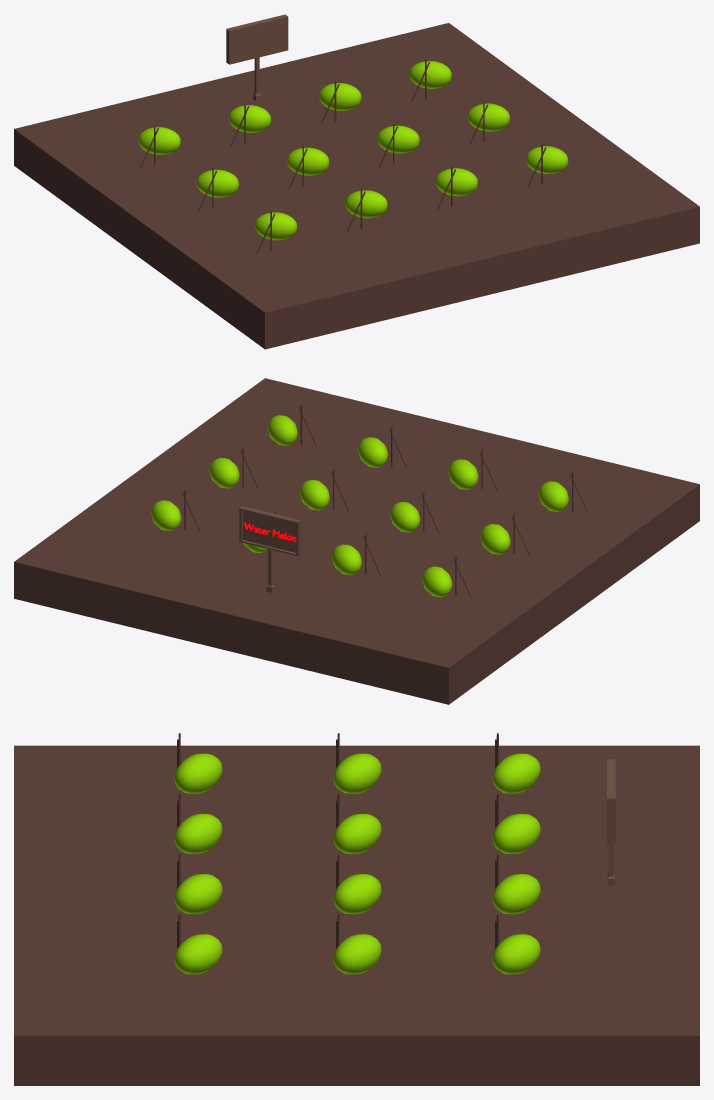
Rendered from WaterMelon_A.fbx.
The picture shows the model from 3 angles, top to bottom: view 1: azimuth 30°, elevation 25°; view 2: azimuth 150°, elevation 25°; view 3: azimuth 270°, elevation 25°; orthographic projection. The views are drawn at different scales.
Visible parts, largest first — view 1: Cube.050, Sphere.001, Cube.049; view 2: Cube.050, Sphere.001, Cube.049; view 3: Cube.050, Sphere.001, Cube.049.
Boxes of the visible parts, <box> form: Cube.050: <box>14,23,699,349</box>; Sphere.001: <box>138,59,568,253</box>; Cube.049: <box>226,14,288,100</box>; Cube.050: <box>14,378,699,704</box>; Sphere.001: <box>151,404,588,597</box>; Cube.049: <box>239,506,301,592</box>; Cube.050: <box>14,745,699,1085</box>; Sphere.001: <box>174,733,540,974</box>; Cube.049: <box>607,759,615,885</box>.
Size of the model in its own units: 2690 by 681 by 2690.
